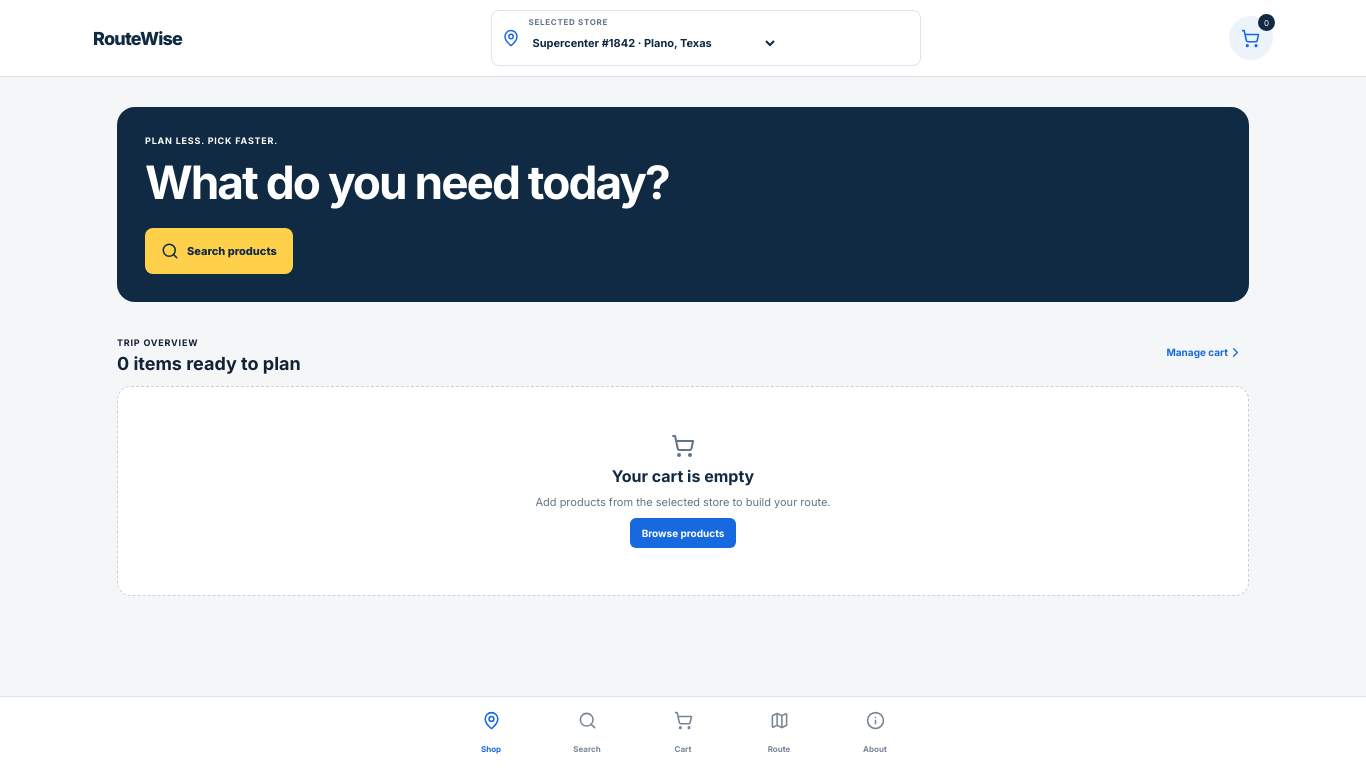
Test case: mobile shopping journey › supports quantity and save-for-later actions
This screenshot has width=1366, height=768.
Click the button "Search". click: [587, 732]
box: x1=551 y1=704 x2=623 y2=761
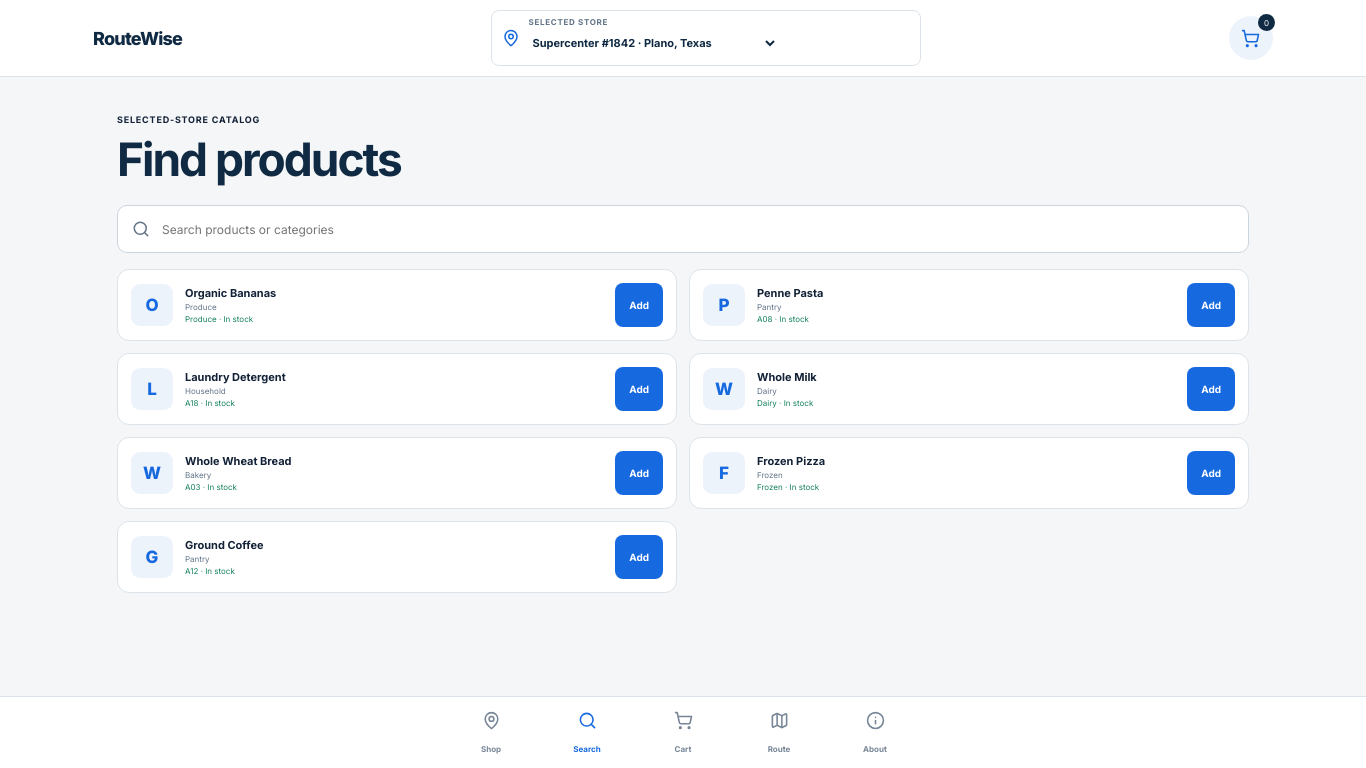
Click the button "Add " in the row of "Organic Bananas". click: [639, 305]
box: x1=615 y1=283 x2=663 y2=327
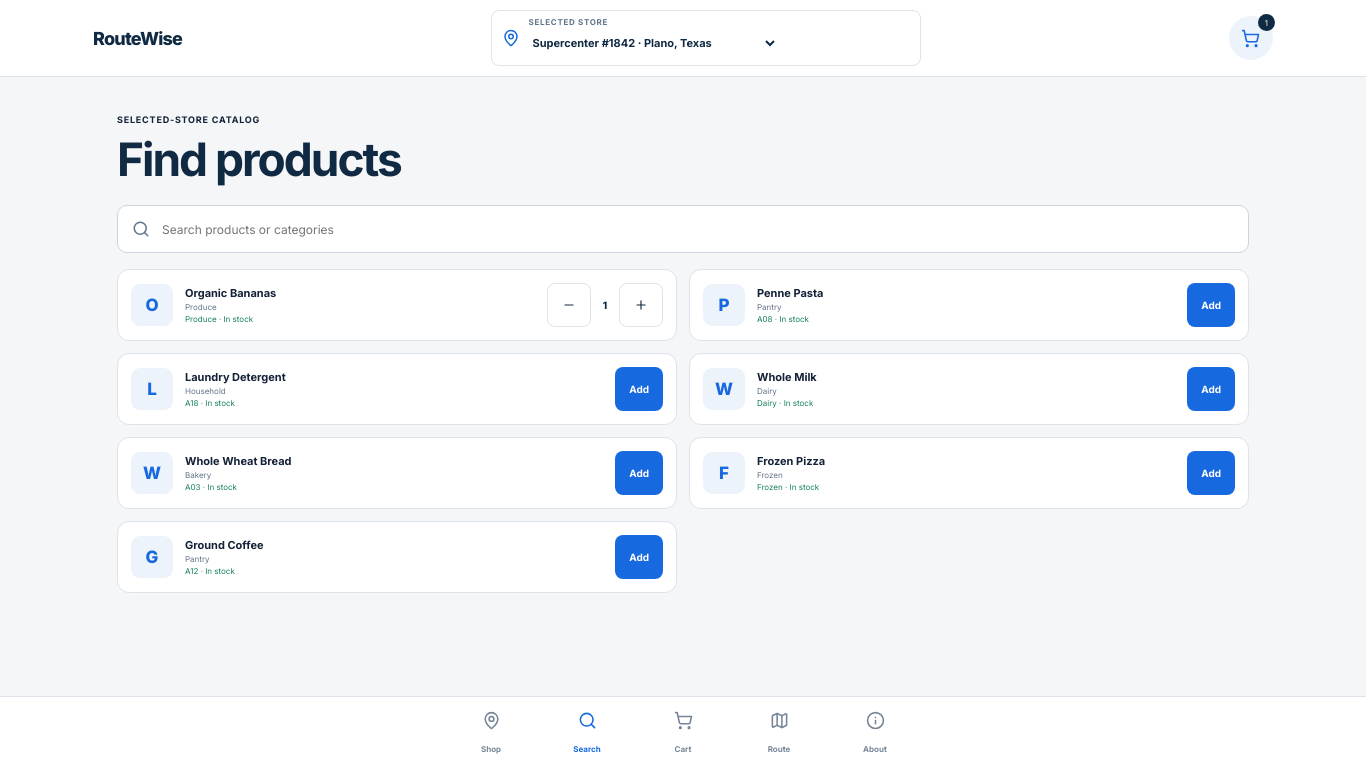
Click the button "Cart". click: [683, 732]
box: x1=647 y1=704 x2=719 y2=761
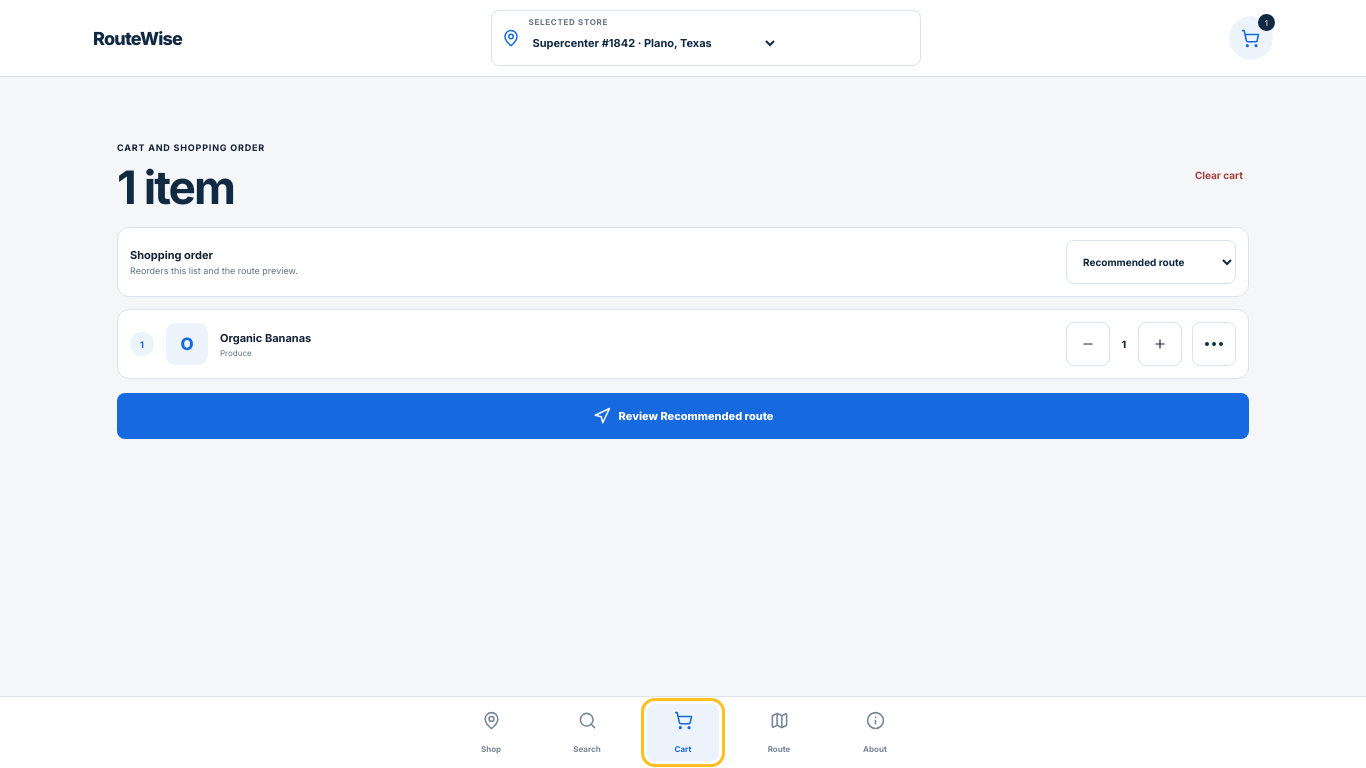
Click the button named "Increase Organic Bananas". click: [1160, 344]
box: x1=1138 y1=322 x2=1182 y2=366
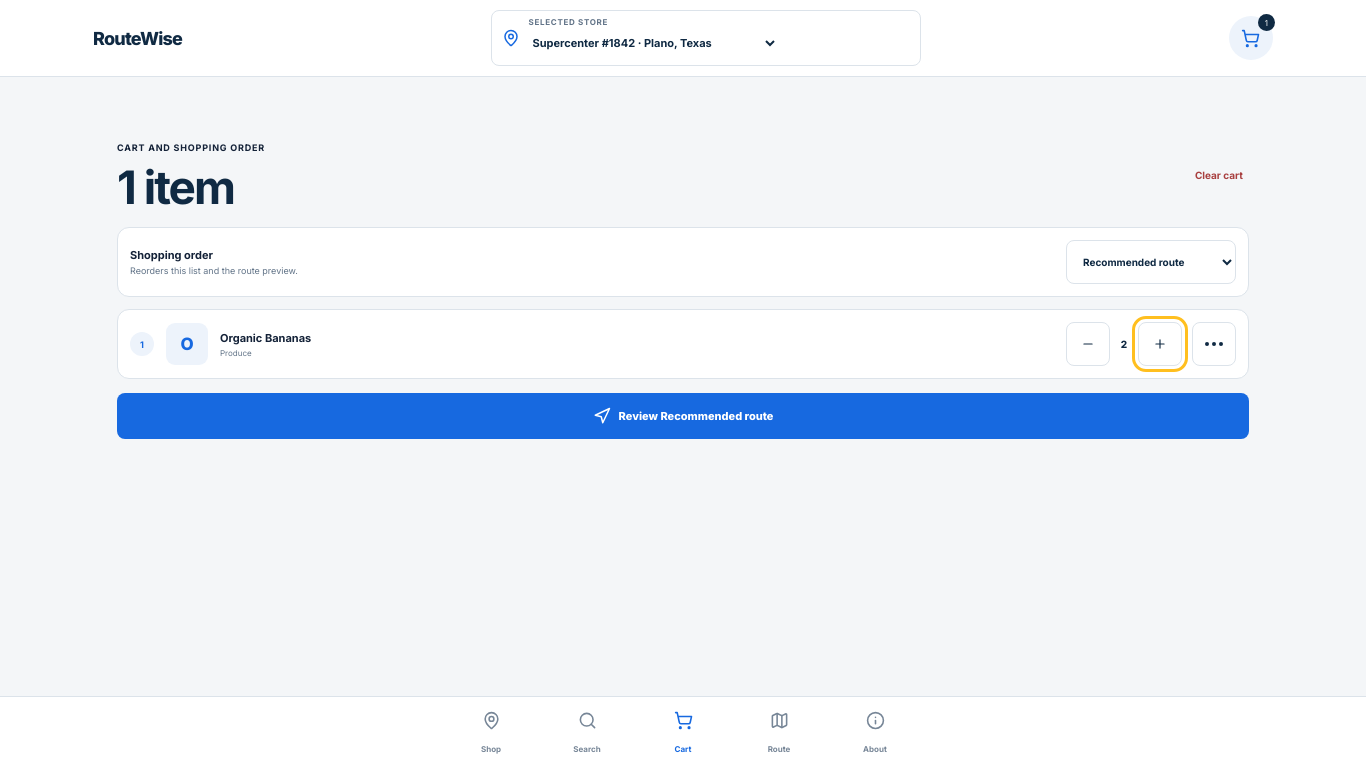
Click the button named "More actions for Organic Bananas". click: [1214, 344]
box: x1=1192 y1=322 x2=1236 y2=366
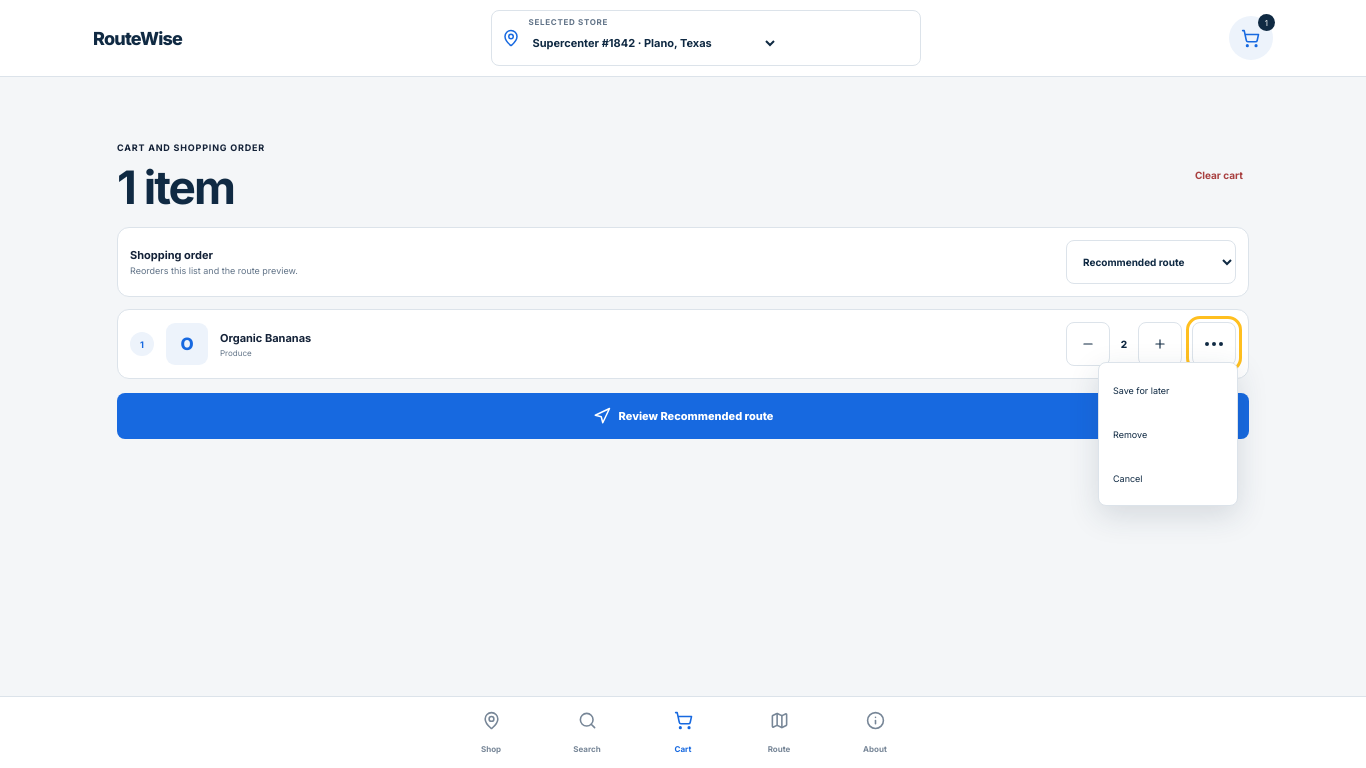
Click the button "Save for later". click: [1168, 390]
box: x1=1104 y1=368 x2=1232 y2=412
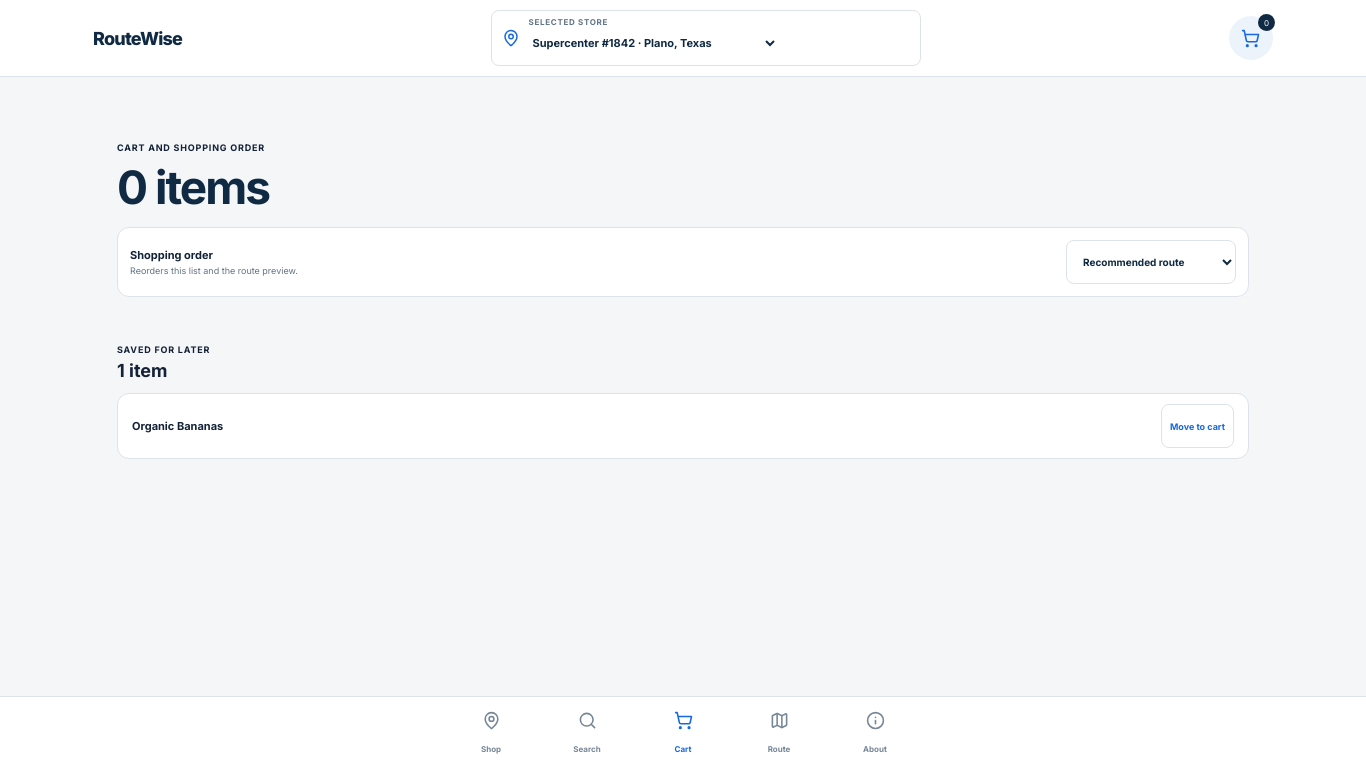
Expected: the text "Saved for later" is shown, x1=117 y1=344 x2=210 y2=355
